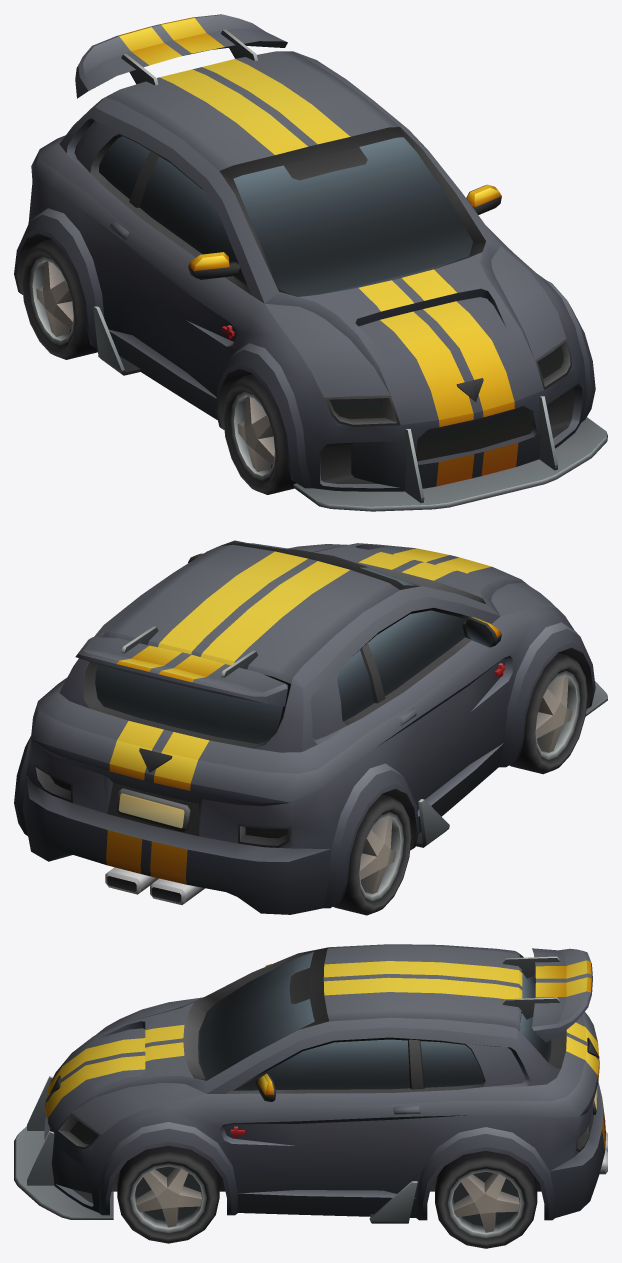
Rendered from Car_7E.fbx.
The picture shows the model from 3 angles, top to bottom: view 1: azimuth 30°, elevation 25°; view 2: azimuth 150°, elevation 25°; view 3: azimuth 270°, elevation 25°; orthographic projection. The views are drawn at different scales.
Visible parts, largest first — view 1: Car_7E.001, Wheel_7E_R.R.001, Wheel_7E_F.R.001; view 2: Car_7E.001, Wheel_7E_F.R.001, Wheel_7E_R.R.001; view 3: Car_7E.001, Wheel_7E_R.L.001, Wheel_7E_F.L.001.
Part boxes in pixels (<box>): Car_7E.001: <box>14,14,607,511</box>; Wheel_7E_R.R.001: <box>21,239,97,359</box>; Wheel_7E_F.R.001: <box>223,374,296,494</box>; Car_7E.001: <box>14,540,607,914</box>; Wheel_7E_F.R.001: <box>509,653,587,774</box>; Wheel_7E_R.R.001: <box>333,794,411,915</box>; Car_7E.001: <box>14,944,607,1223</box>; Wheel_7E_R.L.001: <box>435,1151,537,1248</box>; Wheel_7E_F.L.001: <box>117,1145,219,1243</box>.
Size of the model in its own units: 81.52 by 57.06 by 148.
